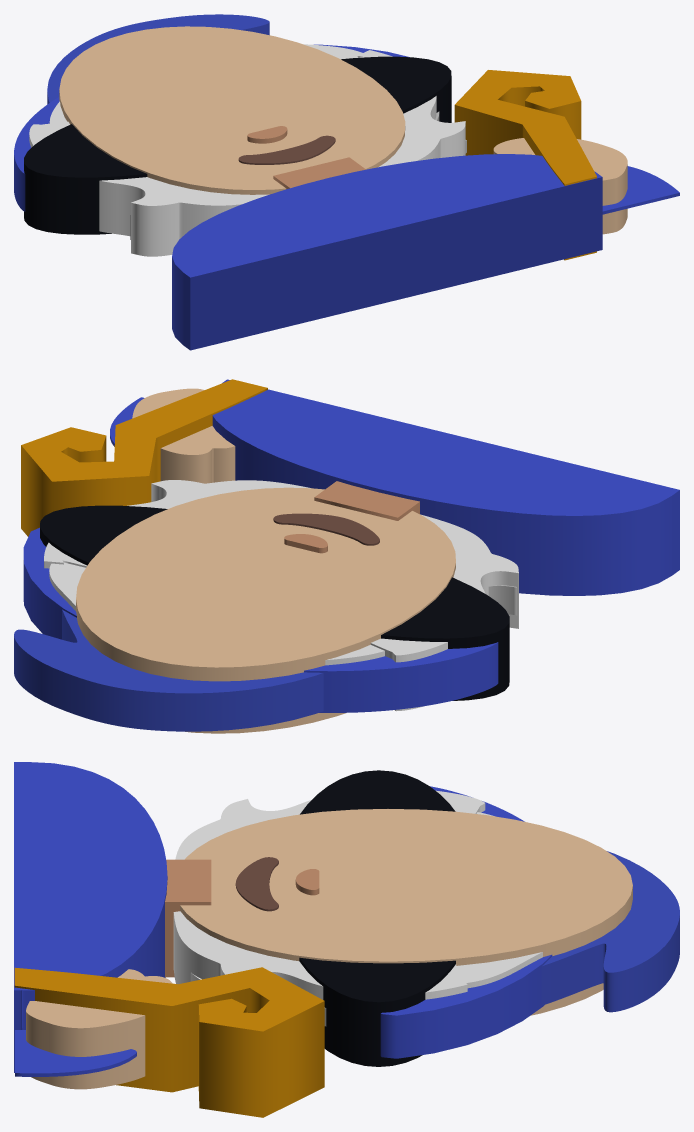
The model's file is emoji_u1f9d9_1f3fc.glb.
3 renders of one model, top to bottom at view 1: azimuth 30°, elevation 25°; view 2: azimuth 150°, elevation 25°; view 3: azimuth 270°, elevation 25°, orthographic. The views are drawn at different scales.
Visible parts, largest first — view 1: emoji_u1f9d9_1f3fc; view 2: emoji_u1f9d9_1f3fc; view 3: emoji_u1f9d9_1f3fc.
Part boxes in pixels (box(x1,y1,x2,y2)): emoji_u1f9d9_1f3fc: box(14, 14, 679, 350); emoji_u1f9d9_1f3fc: box(14, 379, 679, 733); emoji_u1f9d9_1f3fc: box(14, 762, 679, 1117).
Size of the model in its own units: 0.0325 by 0.0048 by 0.0336.
